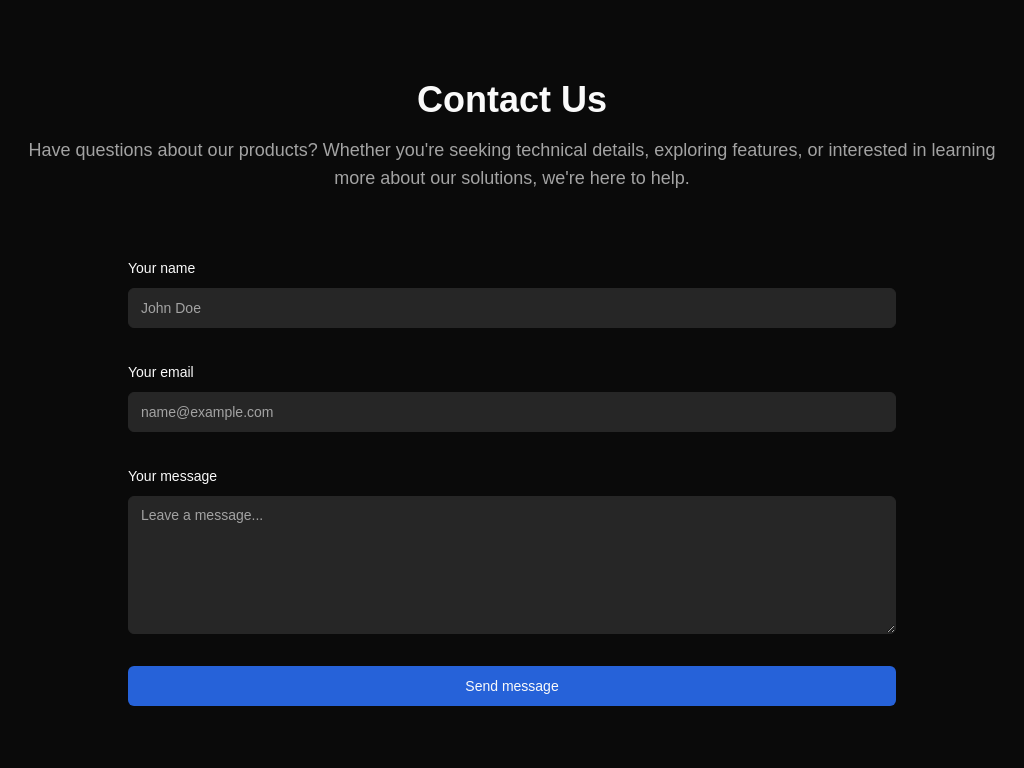
Test: ContactForm Component › handles server errors gracefully
Type "Test User" into the field with test id "name-input".
click(512, 308); type("Test User")  # box [128,288,896,328]
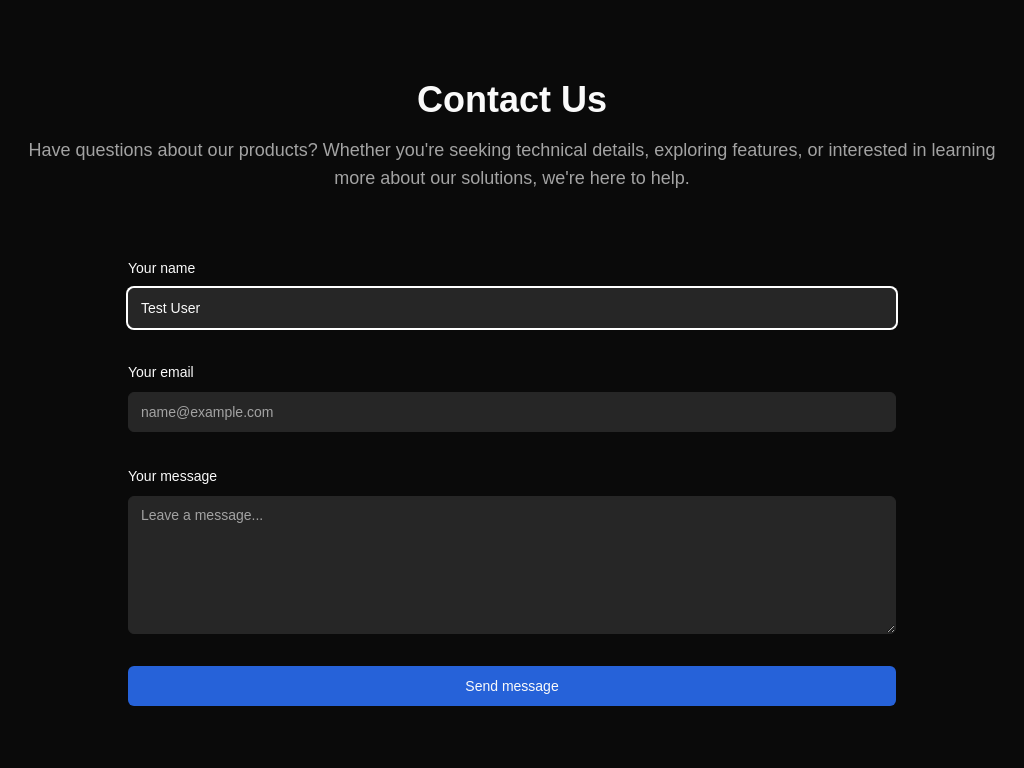
Type "test@example.com" into the field with test id "email-input".
click(512, 412); type("test@example.com")  # box [128,392,896,432]
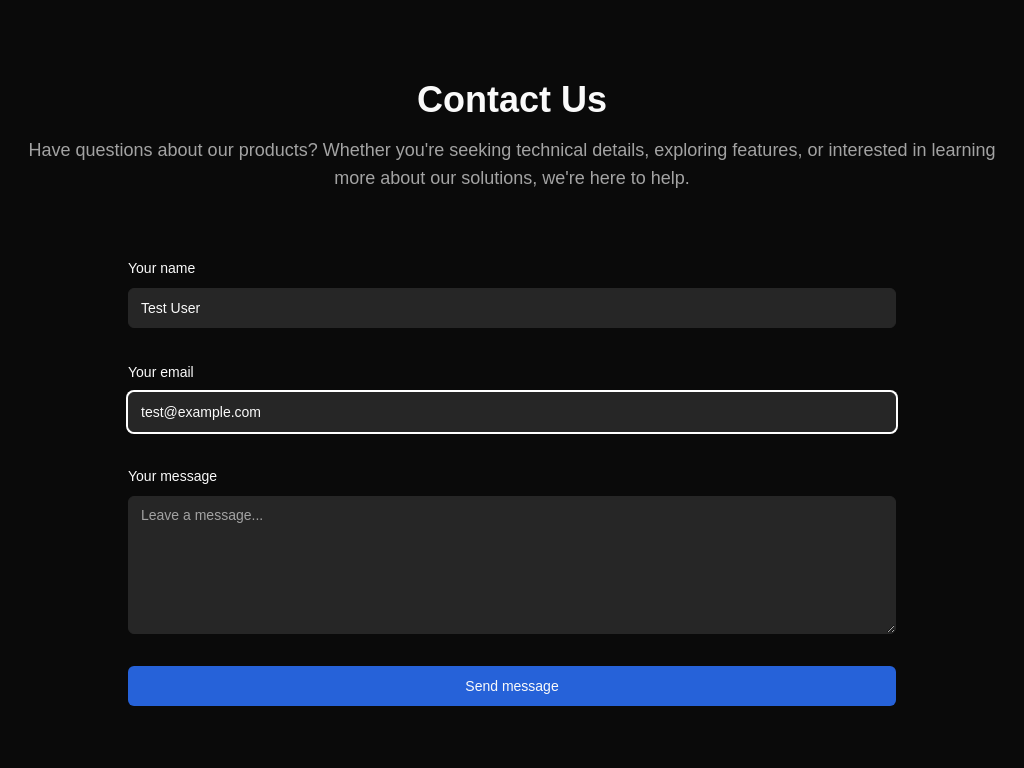
Type "Test message" into the text box with test id "message-input".
click(512, 565); type("Test message")  # box [128,496,896,634]
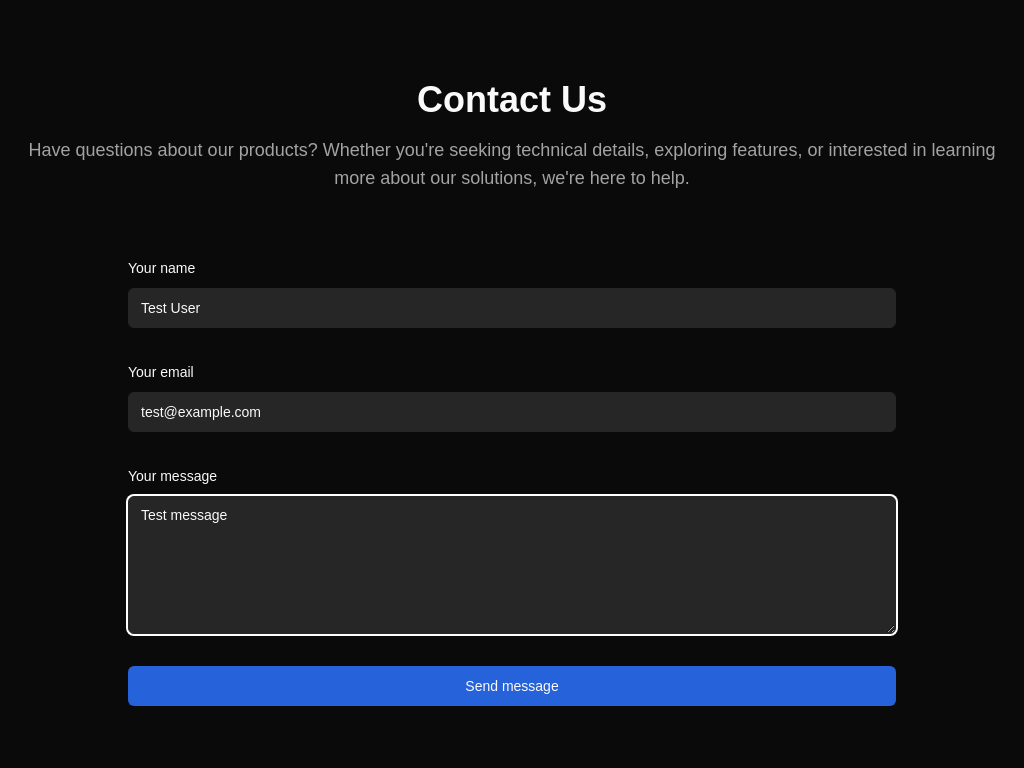
Click the button with test id "send-button".
click(512, 686)  # box [128,666,896,706]
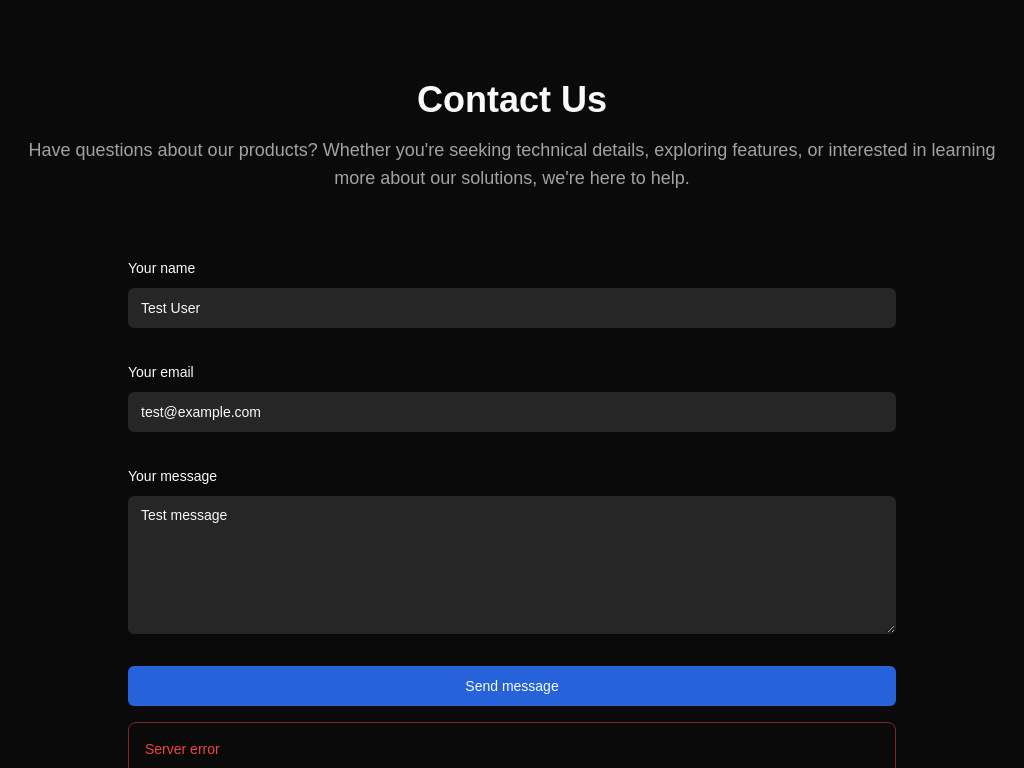
Check: the text "Server error" is shown, box [145,741,220,757]
